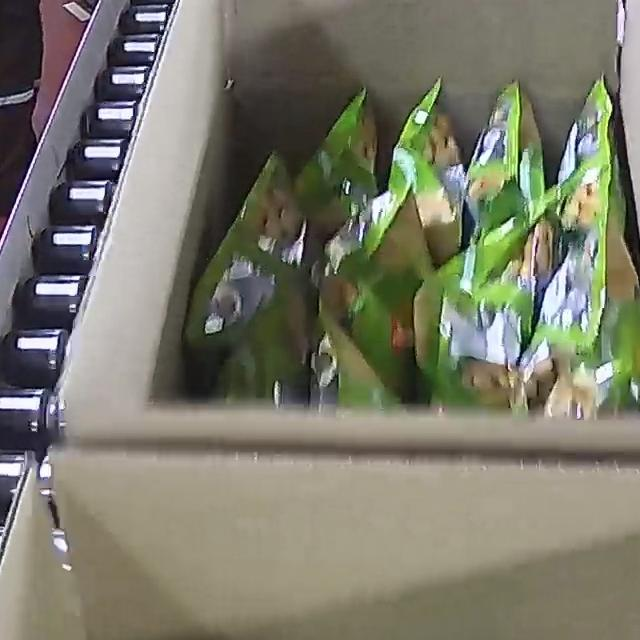yogurt: (180, 70, 640, 419)
